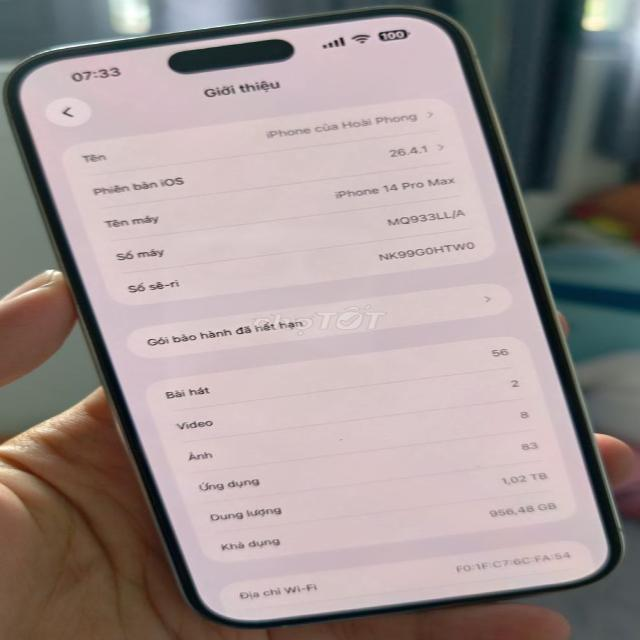gen_14: (0, 7, 634, 620)
